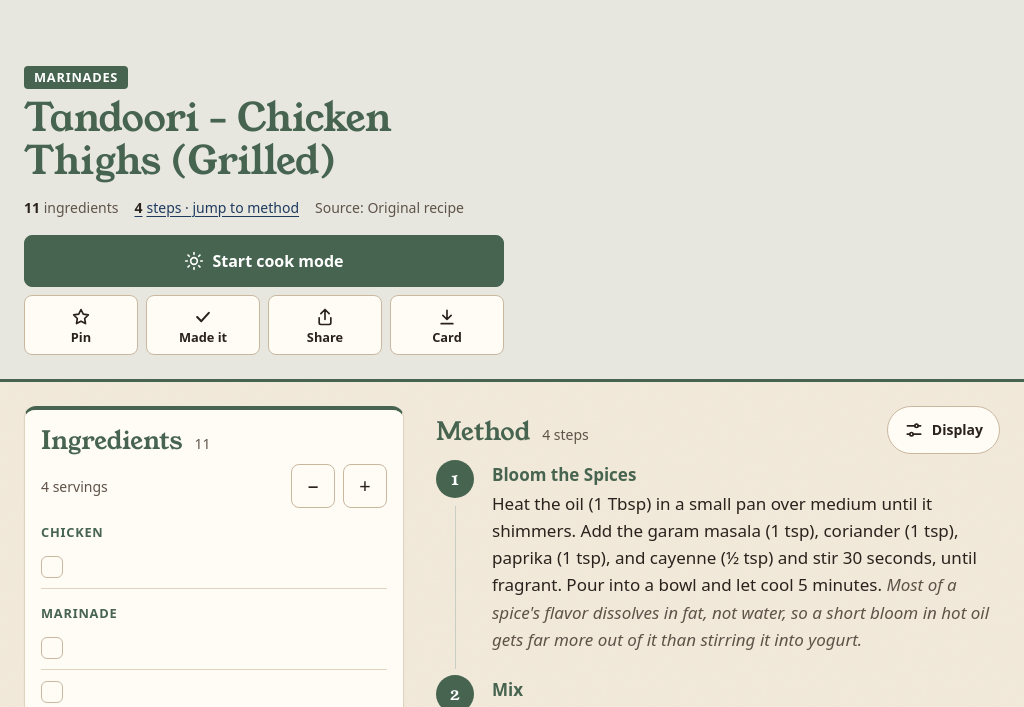
RecipeView servings line › doubles an authored count when scaled to x2
This screenshot has width=1024, height=707.
Click the button named "More servings" at point(365, 486), box [343, 464, 387, 508]
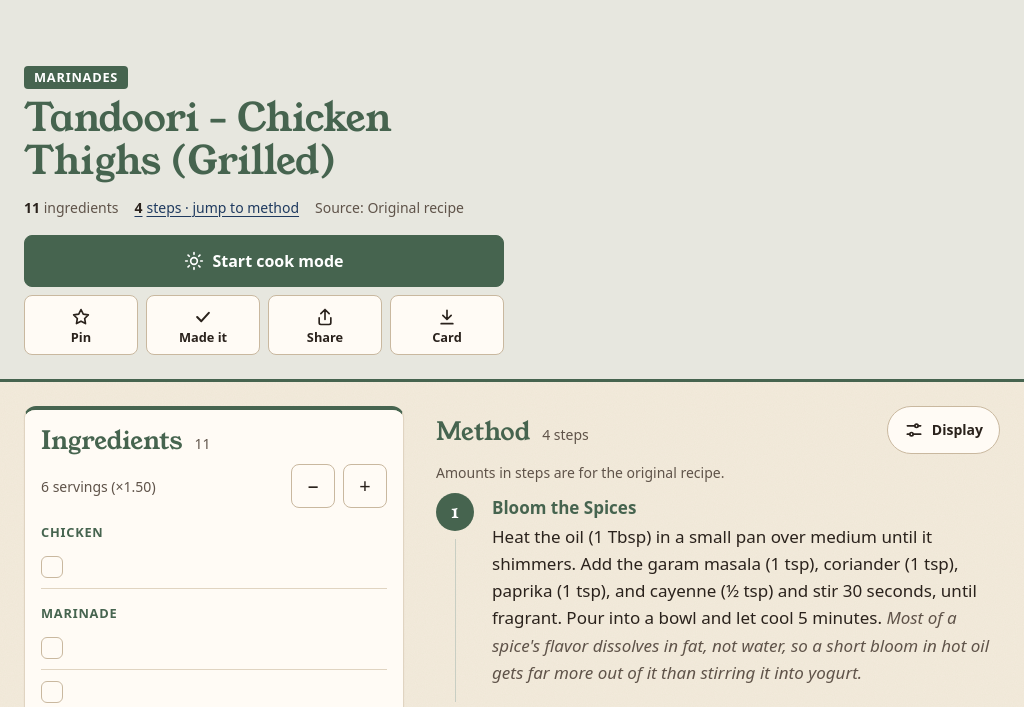
Click the button named "More servings" at point(365, 486), box [343, 464, 387, 508]
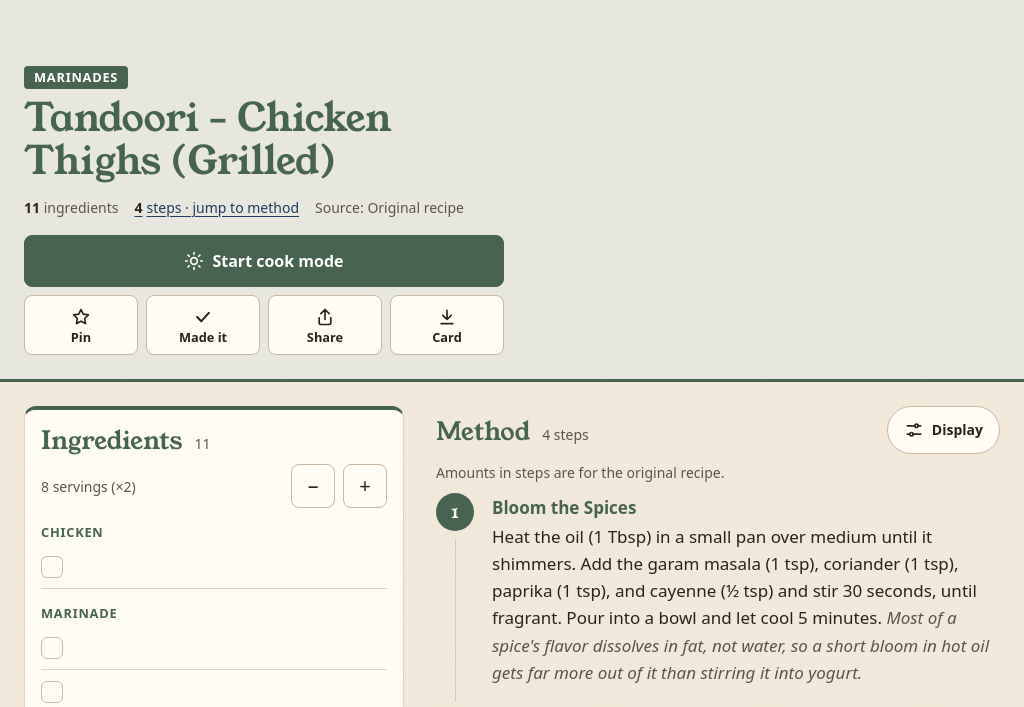
Result: the text "8 servings (×2)" is shown at [41, 477, 136, 496]
